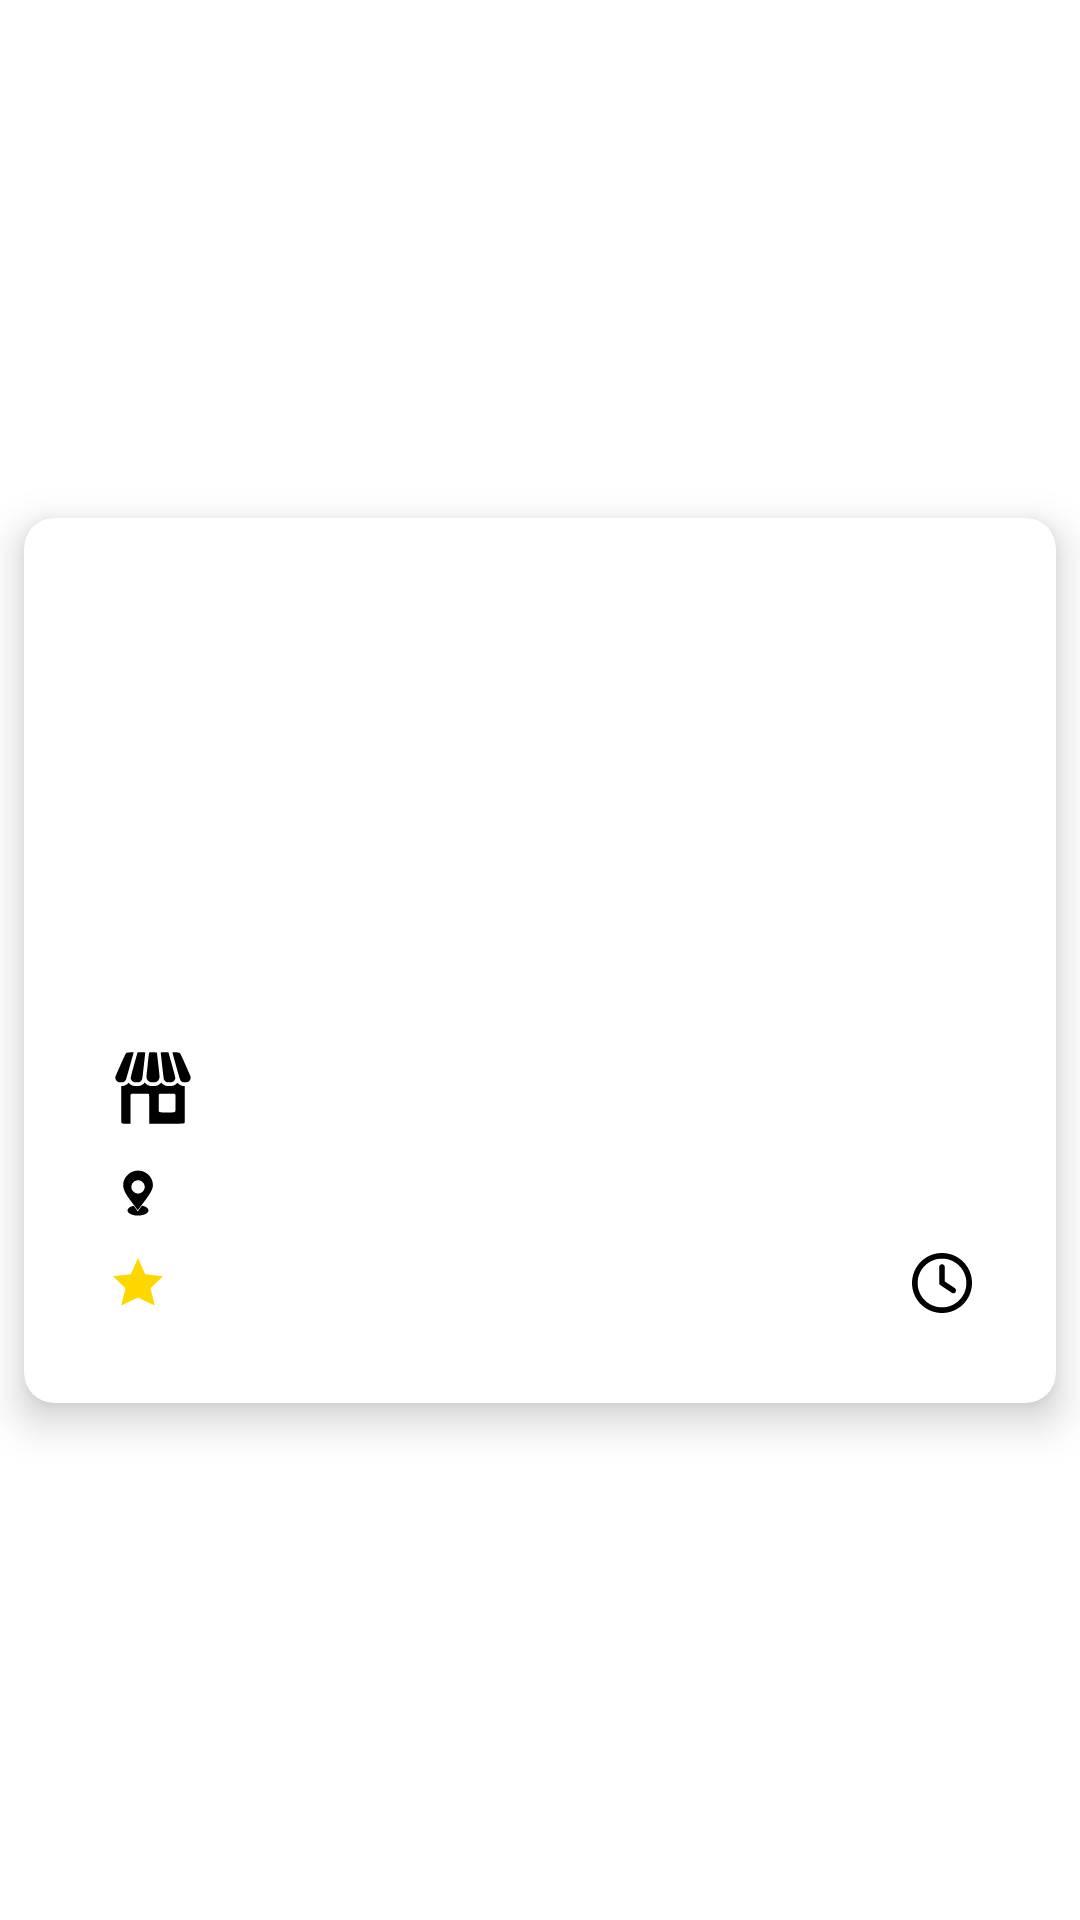

Locate icon controls on the screen. Image size 1080*1920, boxes as (x1, y1, x2, y2).
loca: (123, 1170, 153, 1216)
star: (113, 1258, 163, 1306)
storeicon: (115, 1052, 191, 1124)
watch: (912, 1253, 972, 1313)
